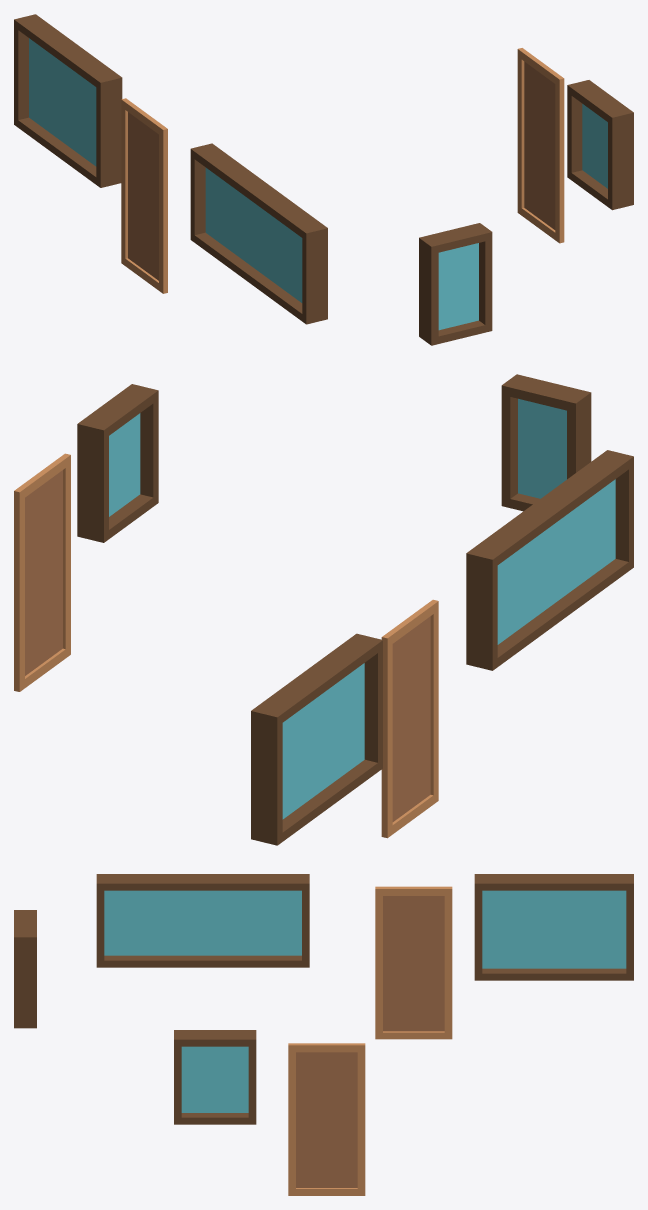
Rendered from WindowsDoors.fbx.
3 renders of one model, top to bottom at view 1: azimuth 30°, elevation 25°; view 2: azimuth 150°, elevation 25°; view 3: azimuth 270°, elevation 25°, orthographic. The views are drawn at different scales.
Visible parts, largest first — view 1: Window2, Window1, Window3, Door2, Door1, Window4; view 2: Window2, Window1, Door2, Door1, Window4, Window3; view 3: Window2, Window1, Door1, Door2, Window4, Window3.
Part boxes in pixels (left/top/right/bottom): Window2: left=190, top=143, right=327, bottom=324; Window1: left=14, top=14, right=122, bottom=187; Window3: left=419, top=223, right=492, bottom=345; Door2: left=517, top=48, right=564, bottom=243; Door1: left=121, top=98, right=167, bottom=293; Window4: left=567, top=80, right=633, bottom=210; Window2: left=466, top=450, right=633, bottom=670; Window1: left=251, top=633, right=382, bottom=845; Door2: left=14, top=453, right=70, bottom=691; Door1: left=381, top=599, right=438, bottom=838; Window4: left=77, top=384, right=158, bottom=542; Window3: left=501, top=374, right=591, bottom=511; Window2: left=96, top=874, right=309, bottom=967; Window1: left=474, top=874, right=633, bottom=980; Door1: left=375, top=886, right=452, bottom=1039; Door2: left=288, top=1043, right=365, bottom=1195; Window4: left=174, top=1030, right=256, bottom=1124; Window3: left=14, top=910, right=36, bottom=1028.
Size of the model in its own units: 806 by 510 by 229.
